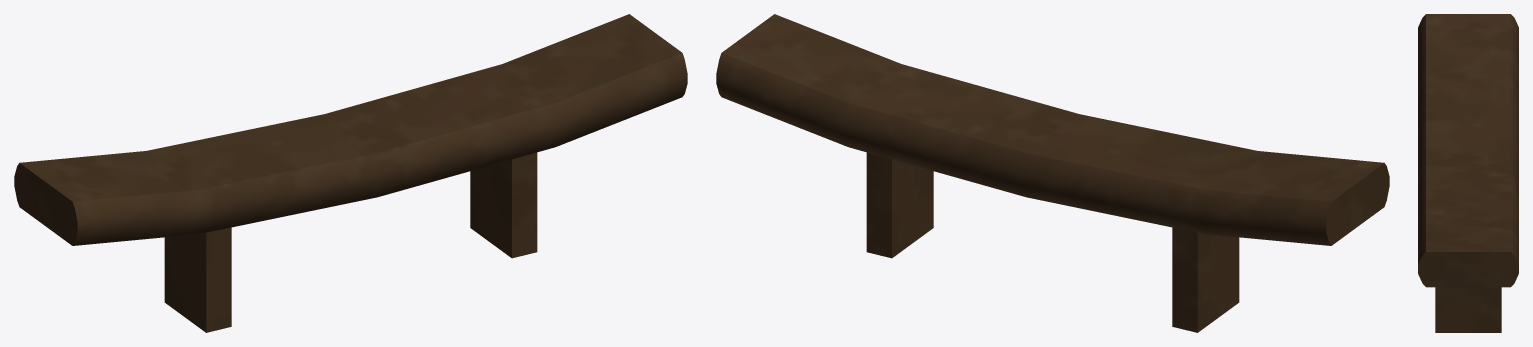
Rendered from Bench1.fbx.
3 views of the same model, side by side, from view 1: azimuth 30°, elevation 25°; view 2: azimuth 150°, elevation 25°; view 3: azimuth 270°, elevation 25° (orthographic). The views are drawn at different scales.
Parts seen in each view (by area): view 1: Bench1; view 2: Bench1; view 3: Bench1.
Boxes of the visible parts, box(x1,y1,x2,y2) form: Bench1: box(14, 14, 687, 332); Bench1: box(716, 14, 1389, 332); Bench1: box(1418, 14, 1518, 332).
Bounding box in the file's own units: 177 × 46.97 × 31.72.
Materials: 1 (1 with a texture image).
